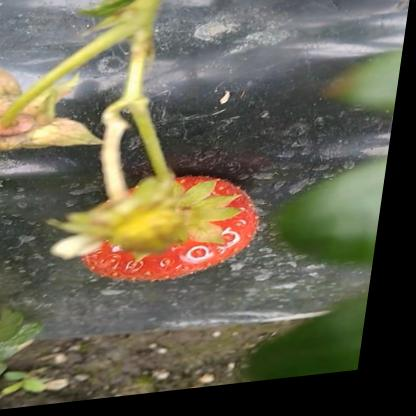ripe: (70, 171, 278, 293)
